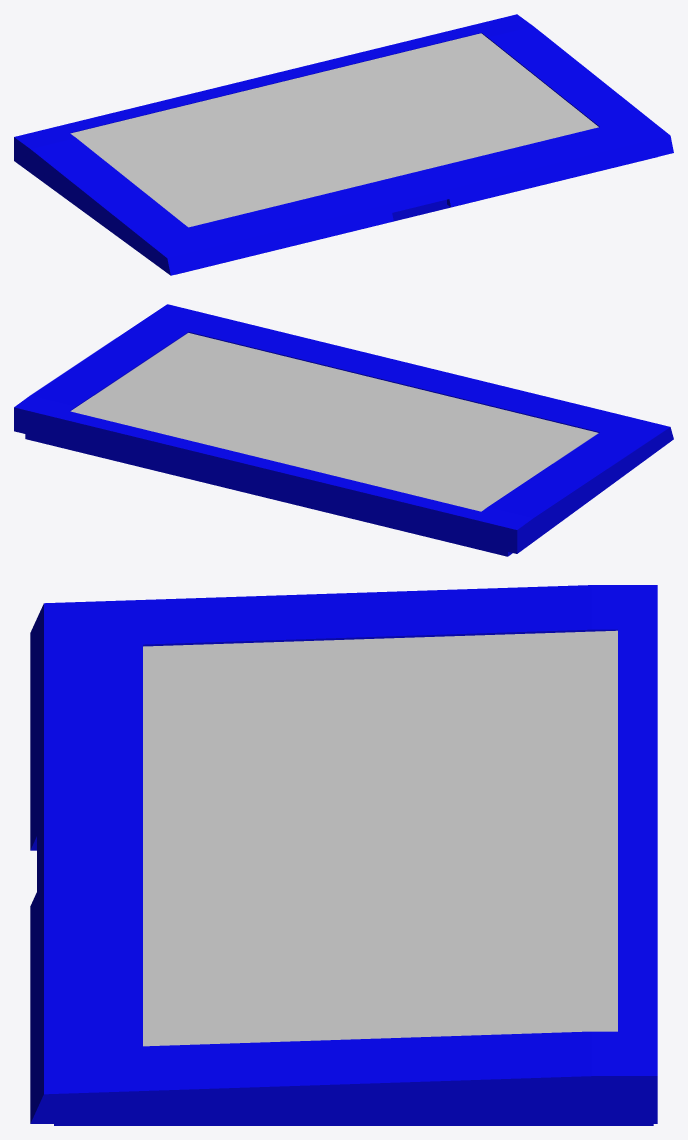
The model's file is lid.obj.
The picture shows the model from 3 angles, top to bottom: view 1: azimuth 30°, elevation 25°; view 2: azimuth 150°, elevation 25°; view 3: azimuth 270°, elevation 25°; orthographic projection. The views are drawn at different scales.
Parts seen in each view (by area): view 1: object_2, object_1; view 2: object_1, object_2; view 3: object_2, object_1.
Part boxes in pixels (x1=…): object_2: x1=70, y1=33, x2=598, y2=227; object_1: x1=14, y1=14, x2=673, y2=275; object_1: x1=14, y1=304, x2=673, y2=556; object_2: x1=70, y1=333, x2=598, y2=511; object_2: x1=143, y1=630, x2=617, y2=1046; object_1: x1=30, y1=585, x2=657, y2=1125.
Size of the model in its own units: 44 by 2.5 by 23.75.
